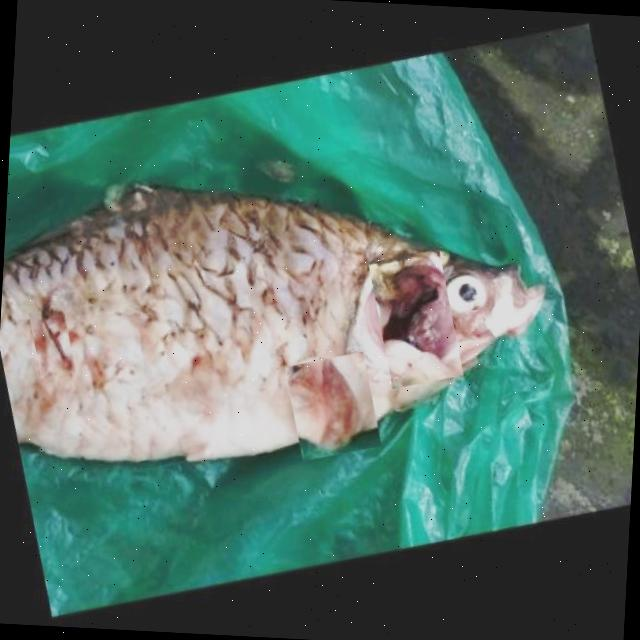Aeromonas Septicemia: (0, 183, 541, 464)
